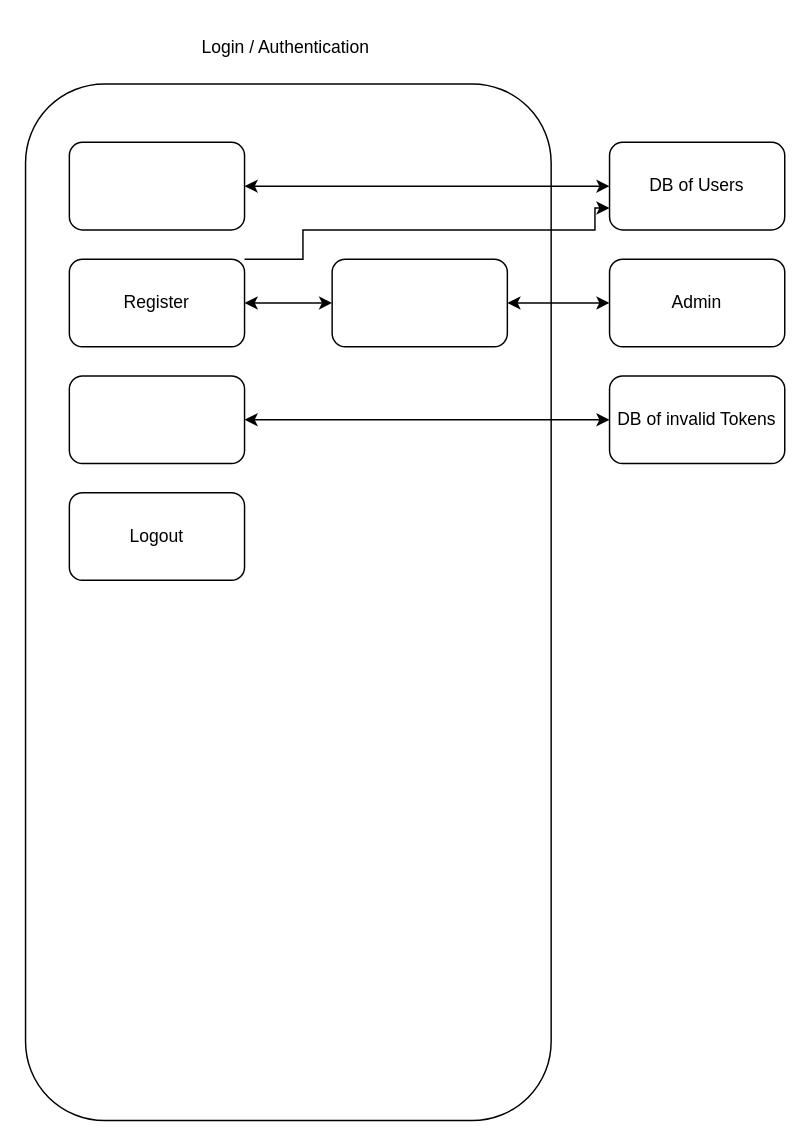
This 810x1146 diagram has some shape labels left out. Each missing label, with the box of its shape:
Login: (68, 141, 245, 230)
Pending Approval: (331, 258, 507, 347)
Token Management: (68, 374, 245, 464)
